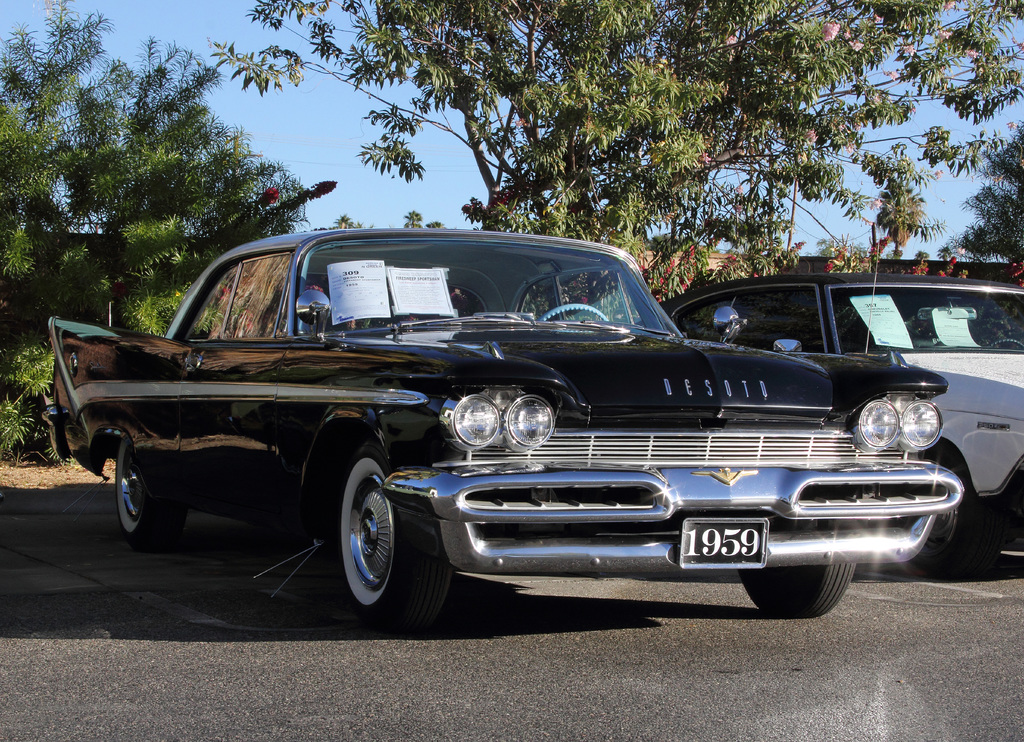mobil: (66, 232, 962, 689)
